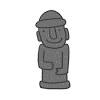Stone Statue: (25, 5, 75, 92)
